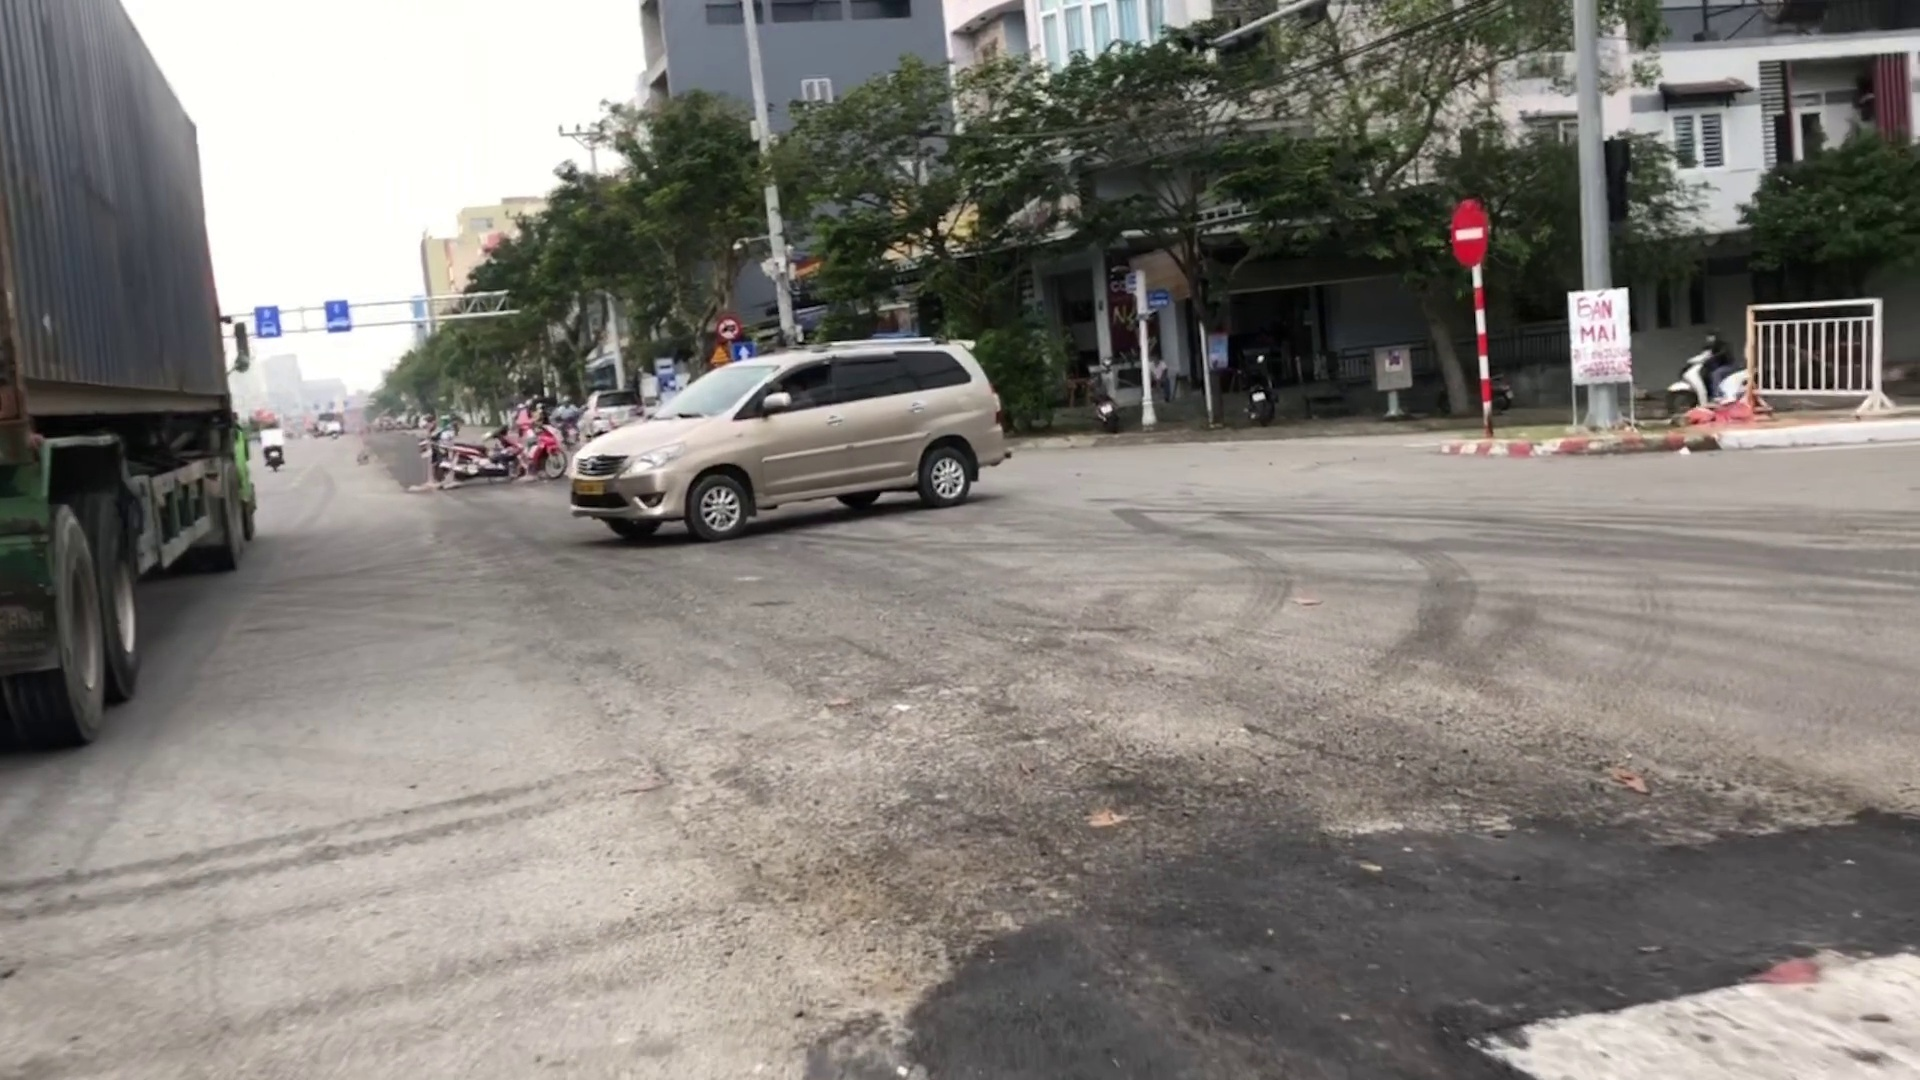Bien khac: (713, 314, 738, 339), (651, 356, 674, 381), (732, 338, 758, 355)
Cam di nguoc chieu: (1451, 195, 1491, 273)
